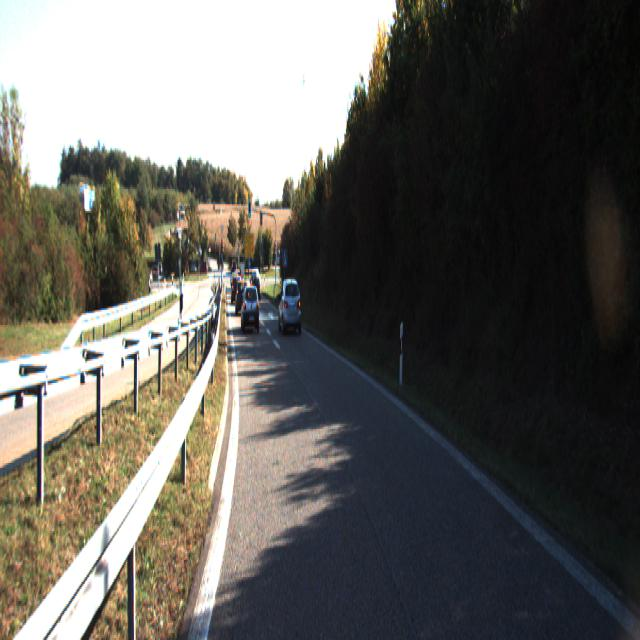Car: (278, 274, 301, 332), (241, 282, 260, 331), (235, 282, 250, 317)
